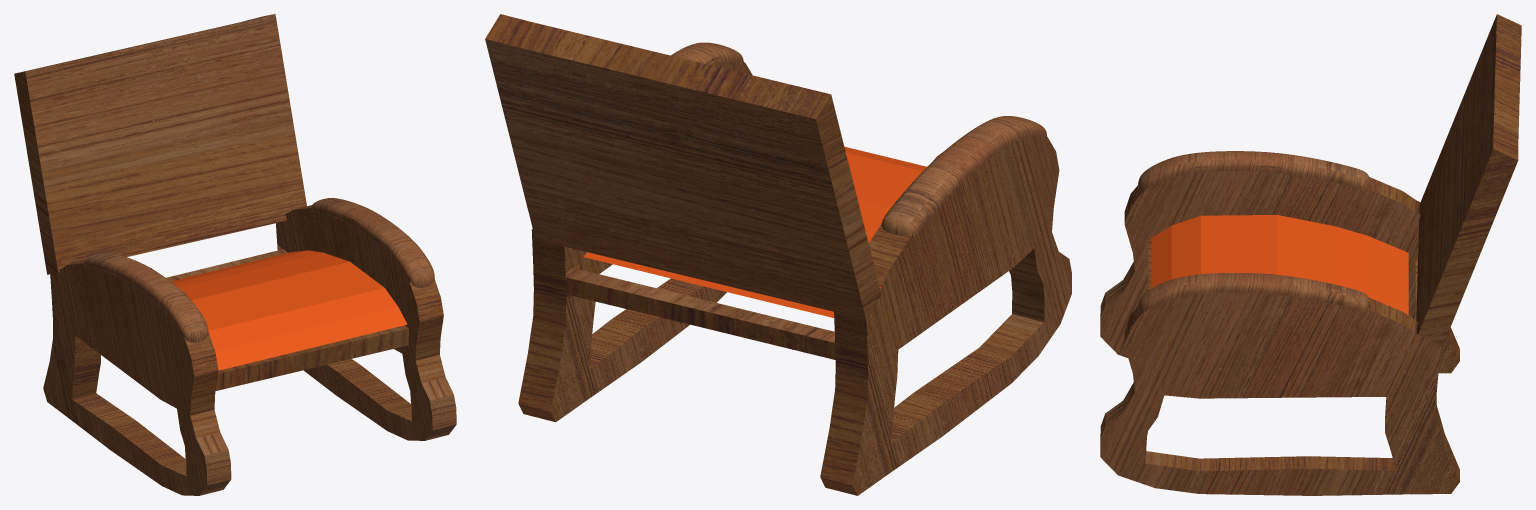
Rendered from SM_Kursi Goyang 1 Revisi_03.fbx.
The picture shows the model from 3 angles, left to right: view 1: azimuth 30°, elevation 25°; view 2: azimuth 150°, elevation 25°; view 3: azimuth 270°, elevation 25°; orthographic projection. The views are drawn at different scales.
Visible parts, largest first — view 1: Kayu kursi.010; view 2: Kayu kursi.010; view 3: Kayu kursi.010.
Boxes of the visible parts, <box> form: Kayu kursi.010: <box>14,14,456,495</box>; Kayu kursi.010: <box>485,14,1071,495</box>; Kayu kursi.010: <box>1100,14,1521,495</box>.
Size of the model in its own units: 164 by 196 by 215.
